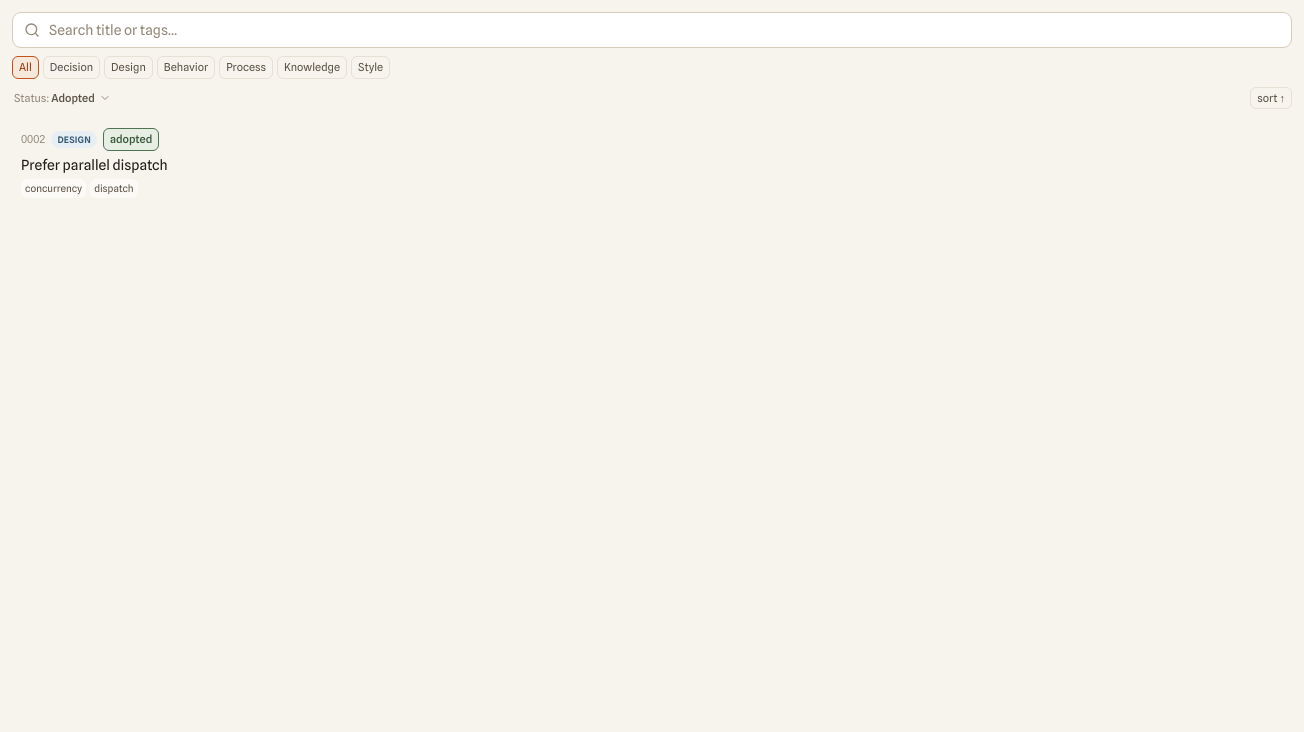
NodesView index (search / filter / sort) › a node with an unknown status still appears with a neutral chip (F19)
Click the button "Status: adopted".
click(62, 98)  # box [12,90,113,106]
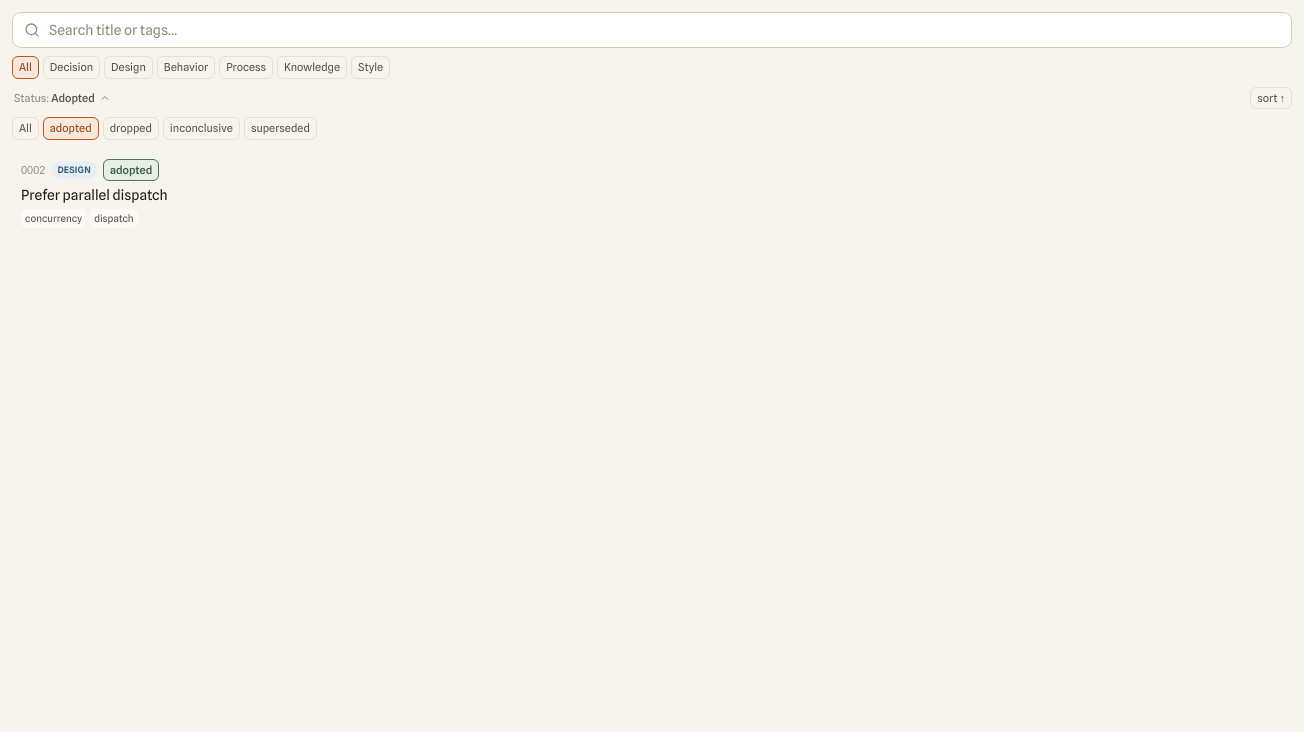
Click the 2nd radio button labelled "All".
click(25, 128)  # box [12,117,39,140]
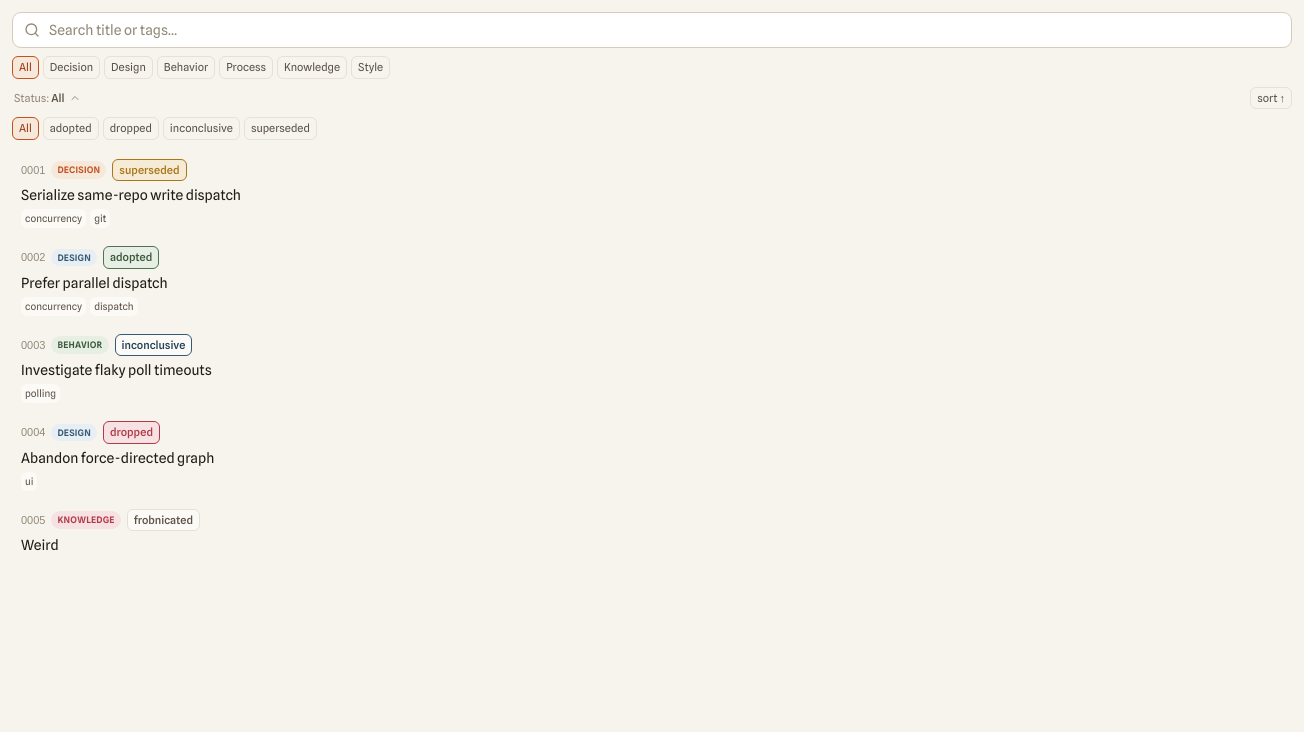
Expected: the button with test id "node-row-0005" is shown, [12,502,1292,562]
Expected: the text "frobnicated" is shown, [127,508,200,531]
